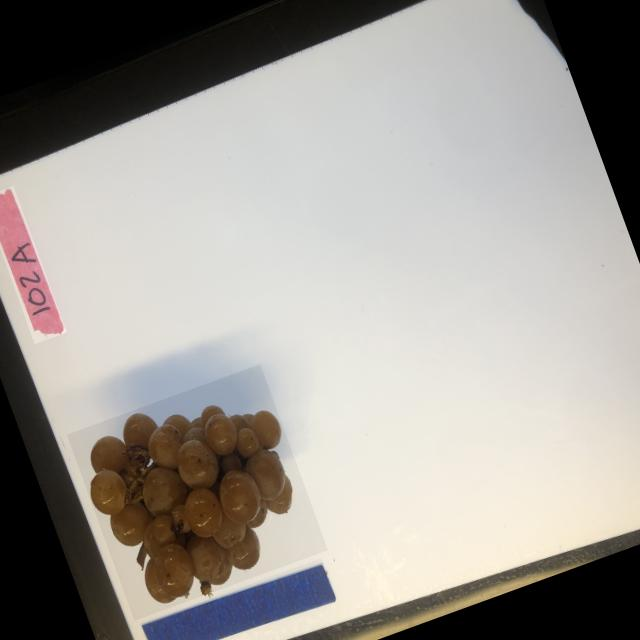grape_cluster: (67, 362, 328, 620)
index: (0, 184, 66, 342)
measure_label: (140, 557, 336, 640)
